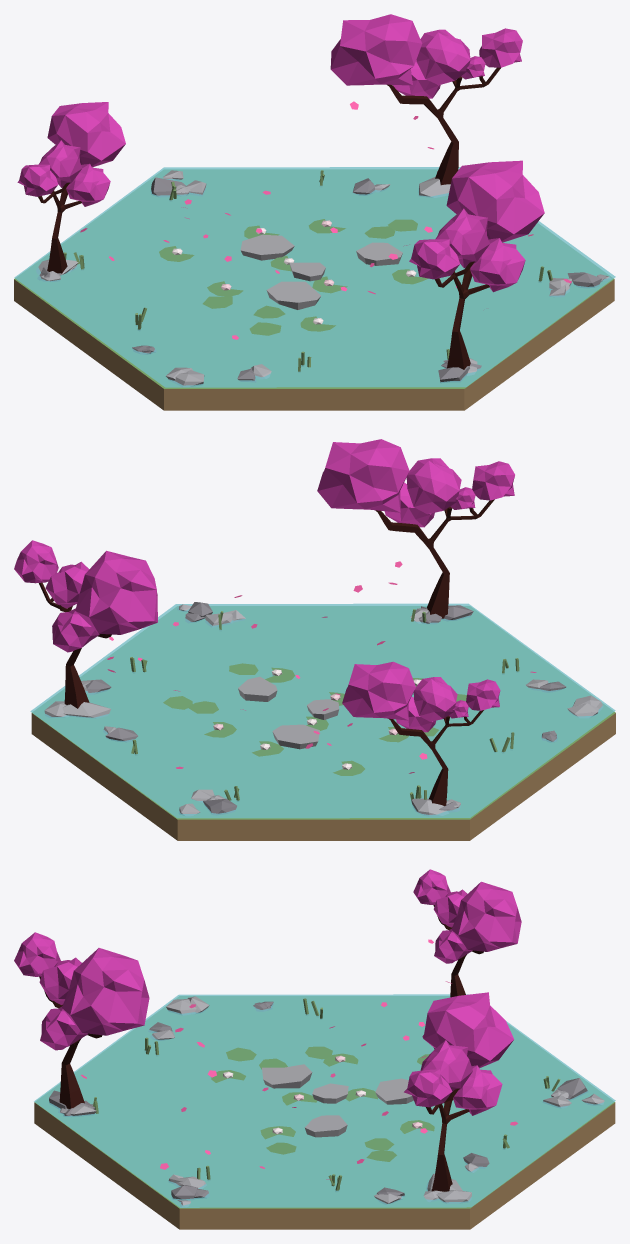
Rendered from pond_lower.glb.
3 views of the same model, one above another, from view 1: azimuth 30°, elevation 25°; view 2: azimuth 150°, elevation 25°; view 3: azimuth 270°, elevation 25° (orthographic). The views are drawn at different scales.
Visible parts, largest first — view 1: FullBase, Water Surface, Tree_Full1_Icosphere.008, Tree_Full1_Icosphere, Tree_Full1_Icosphere.013, Tree_Full1_Icosphere.003, Tree_Full1_Icosphere.009, Tree_Full1_Icosphere.006, Tree_Full1_Cube, Tree_Full1_Icosphere.007, Tree_Full1_Cube.001, Tree_Full1_Icosphere.001 (+9 smaller); view 2: FullBase, Water Surface, Tree_Full1_Icosphere.008, Tree_Full1_Icosphere, Tree_Full1_Icosphere.013, Tree_Full1_Icosphere.006, Tree_Full1_Cube.001, Tree_Full1_Icosphere.011, Tree_Full1_Icosphere.001, Tree_Full1_Icosphere.007, Tree_Full1_Icosphere.004, Tree_Full1_Icosphere.003 (+8 smaller); view 3: FullBase, Water Surface, Tree_Full1_Icosphere.008, Tree_Full1_Icosphere, Tree_Full1_Icosphere.013, Tree_Full1_Icosphere.004, Tree_Full1_Icosphere.003, Tree_Full1_Icosphere.007, Tree_Full1_Icosphere.001, Tree_Full1_Icosphere.009, Tree_Full1_Cube, Tree_Full1_Icosphere.006 (+8 smaller).
Boxes of the visible parts, left/top/right/bottom form: FullBase: left=14, top=170, right=614, bottom=410; Water Surface: left=14, top=167, right=615, bottom=387; Tree_Full1_Icosphere.008: left=446, top=160, right=544, bottom=242; Tree_Full1_Icosphere: left=330, top=14, right=422, bottom=85; Tree_Full1_Icosphere.013: left=47, top=102, right=125, bottom=167; Tree_Full1_Icosphere.003: left=416, top=29, right=470, bottom=85; Tree_Full1_Icosphere.009: left=470, top=238, right=525, bottom=292; Tree_Full1_Icosphere.006: left=435, top=208, right=489, bottom=268; Tree_Full1_Cube: left=387, top=67, right=500, bottom=185; Tree_Full1_Icosphere.007: left=409, top=239, right=459, bottom=279; Tree_Full1_Cube.001: left=435, top=261, right=489, bottom=369; Tree_Full1_Icosphere.001: left=479, top=28, right=522, bottom=67; FullBase: left=31, top=606, right=615, bottom=840; Water Surface: left=30, top=603, right=615, bottom=818; Tree_Full1_Icosphere.008: left=317, top=439, right=409, bottom=512; Tree_Full1_Icosphere: left=75, top=550, right=157, bottom=634; Tree_Full1_Icosphere.013: left=342, top=661, right=415, bottom=720; Tree_Full1_Icosphere.006: left=406, top=458, right=461, bottom=514; Tree_Full1_Cube.001: left=375, top=499, right=494, bottom=618; Tree_Full1_Icosphere.011: left=413, top=677, right=457, bottom=721; Tree_Full1_Icosphere.001: left=14, top=540, right=58, bottom=583; Tree_Full1_Icosphere.007: left=472, top=461, right=514, bottom=500; Tree_Full1_Icosphere.004: left=52, top=608, right=99, bottom=652; Tree_Full1_Icosphere.003: left=45, top=561, right=89, bottom=608; FullBase: left=34, top=996, right=615, bottom=1229; Water Surface: left=34, top=994, right=615, bottom=1207; Tree_Full1_Icosphere.008: left=62, top=948, right=149, bottom=1035; Tree_Full1_Icosphere: left=422, top=992, right=514, bottom=1068; Tree_Full1_Icosphere.013: left=451, top=881, right=521, bottom=951; Tree_Full1_Icosphere.004: left=453, top=1065, right=502, bottom=1115; Tree_Full1_Icosphere.003: left=420, top=1040, right=472, bottom=1091; Tree_Full1_Icosphere.007: left=14, top=932, right=60, bottom=976; Tree_Full1_Icosphere.001: left=404, top=1069, right=452, bottom=1107; Tree_Full1_Icosphere.009: left=40, top=1006, right=87, bottom=1050; Tree_Full1_Cube: left=426, top=1088, right=469, bottom=1191; Tree_Full1_Icosphere.006: left=39, top=957, right=81, bottom=1004.
Size of the model in its own units: 4.77 by 1.84 by 5.18.
